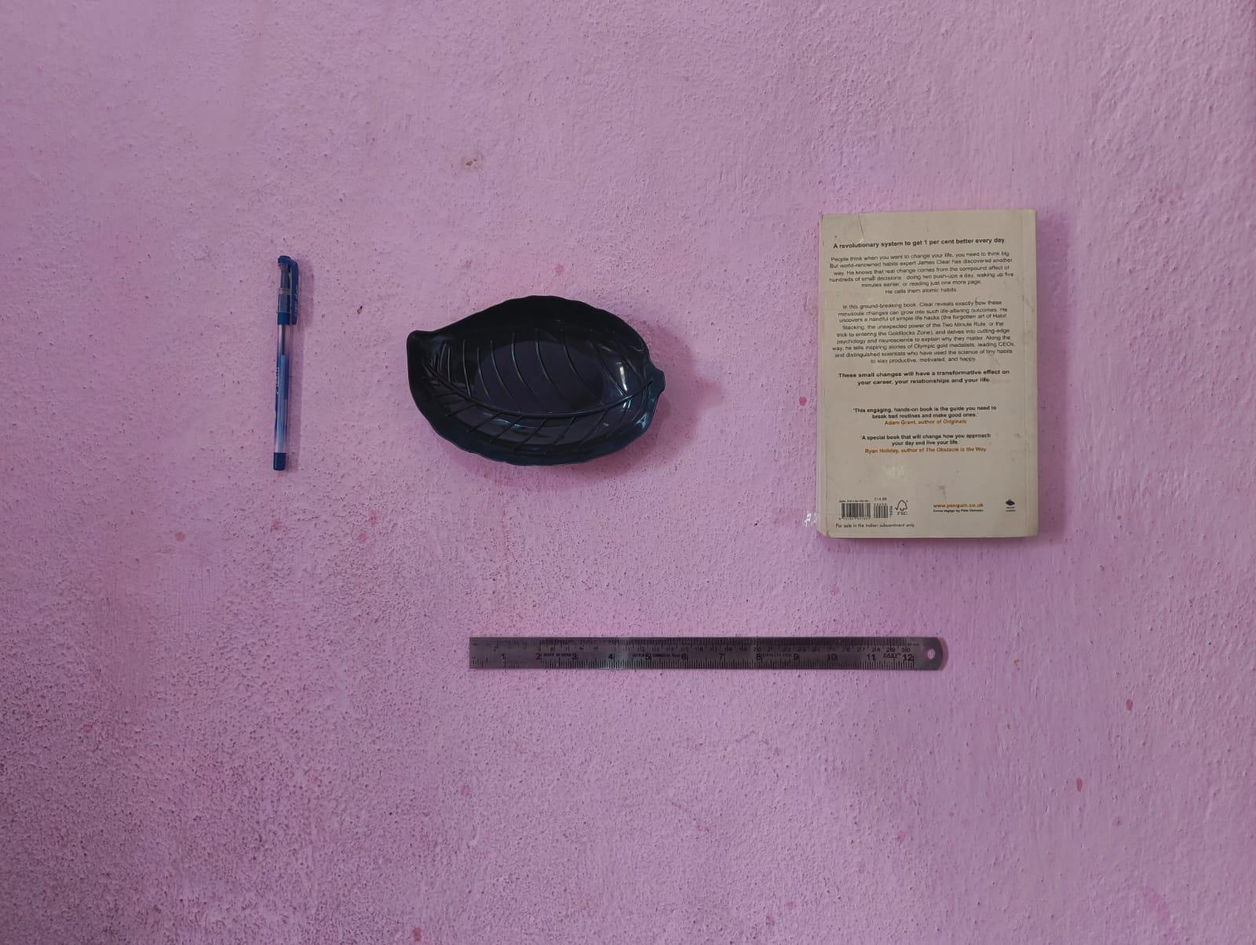Book: (805, 202, 1054, 552)
pen: (262, 244, 314, 479)
plate: (407, 289, 675, 469)
scale: (462, 616, 971, 679)
